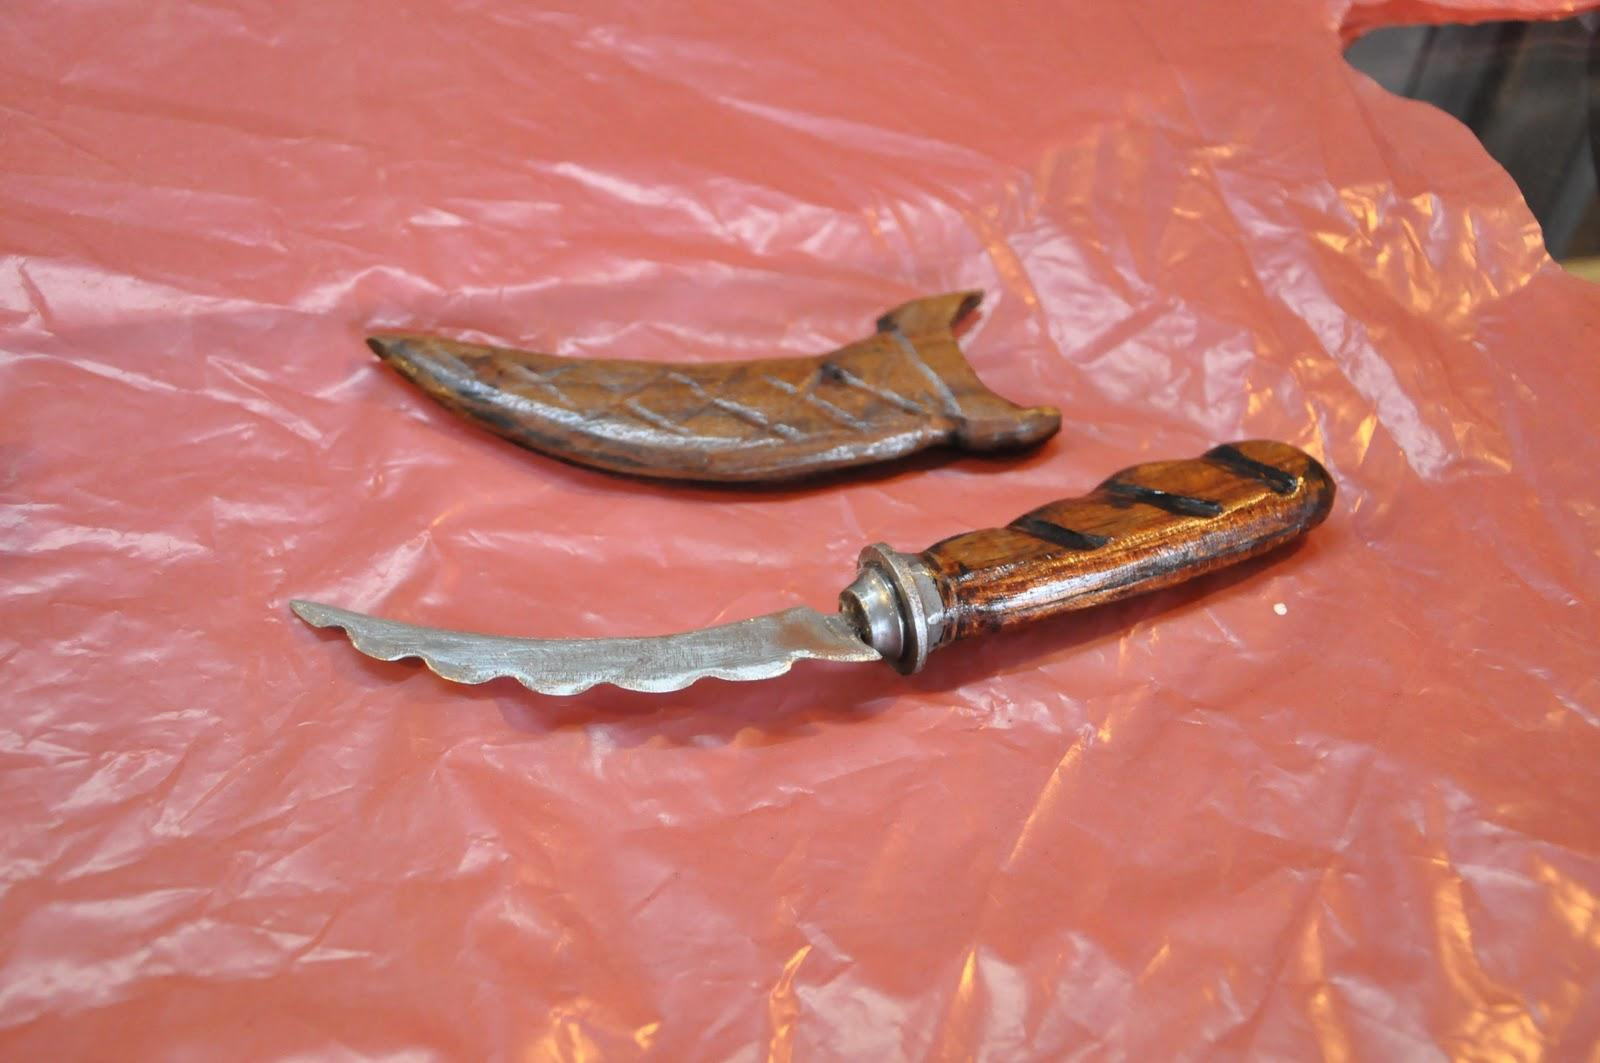faca: (291, 441, 1336, 695)
